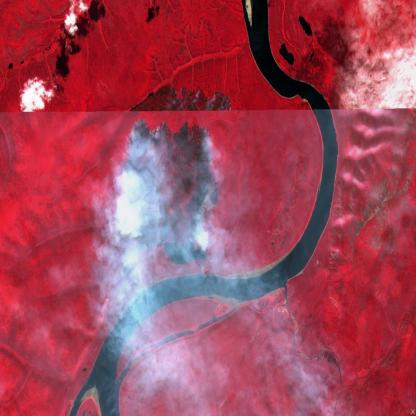fire: (115, 82, 235, 256)
